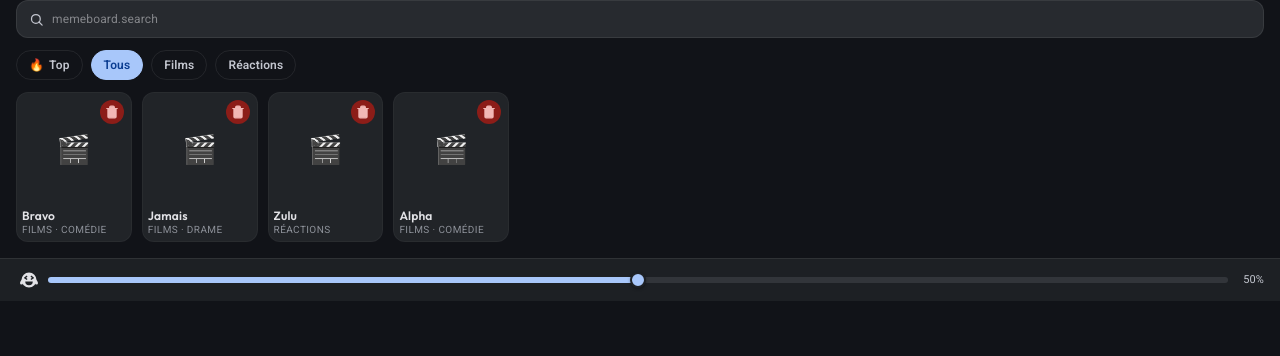
Test: un clic refusé par l'anti-rafale ou une erreur n'augmente pas le classement
Click the element titled "Jamais" at (200, 167), box x1=142 y1=92 x2=258 y2=242
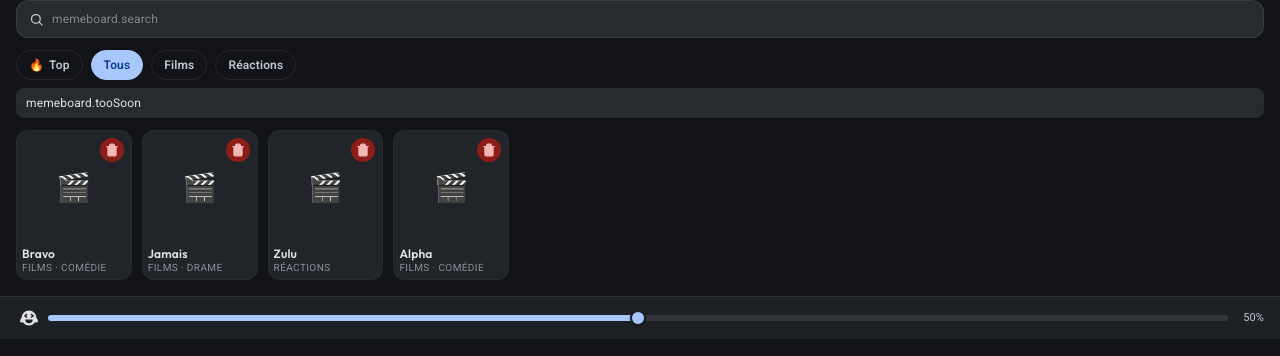
expect the text "memeboard.tooSoon" is shown: met, box x1=16 y1=88 x2=1264 y2=118
Click the element titled "Jamais" at (200, 205), box x1=142 y1=130 x2=258 y2=280
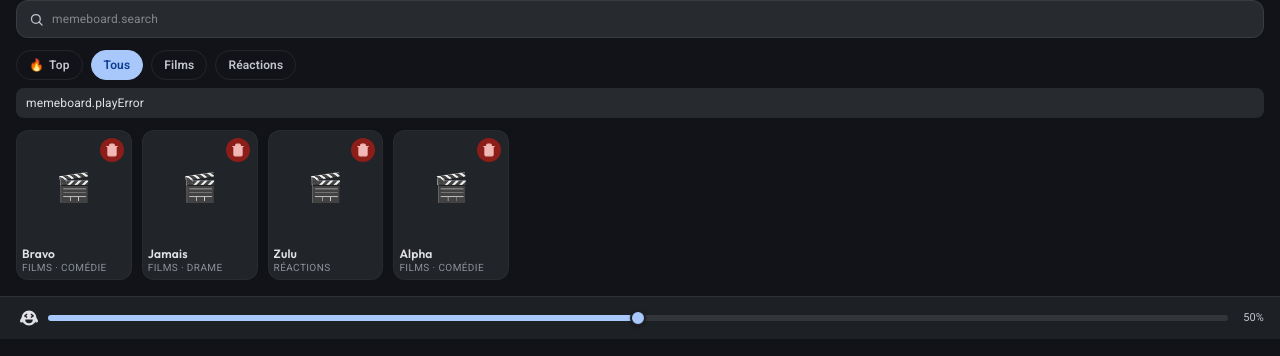
expect the text "memeboard.playError" is shown: met, box x1=16 y1=88 x2=1264 y2=118
